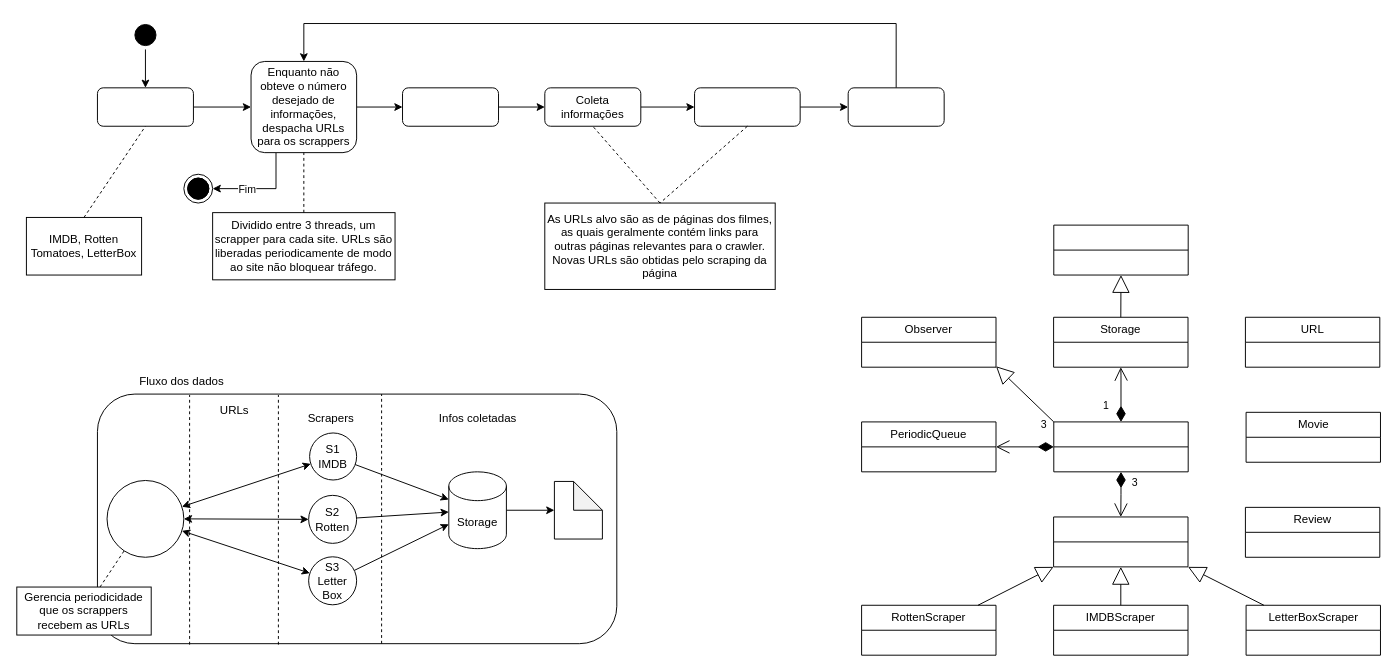
This 1398x672 diagram has some shape labels left out. Each missing label, with the centre of its shape:
Crawler Manager: the point at 145,518
CrawlerManager: the point at 1120,446
Enfileira novas URLs encontradas: the point at 747,106
Enfileira URLs base: the point at 144,106
JSON: the point at 577,509
Observed: the point at 1120,249
Realiza request a URL: the point at 450,106
Salva informações: the point at 895,106
Scraper: the point at 1120,541
